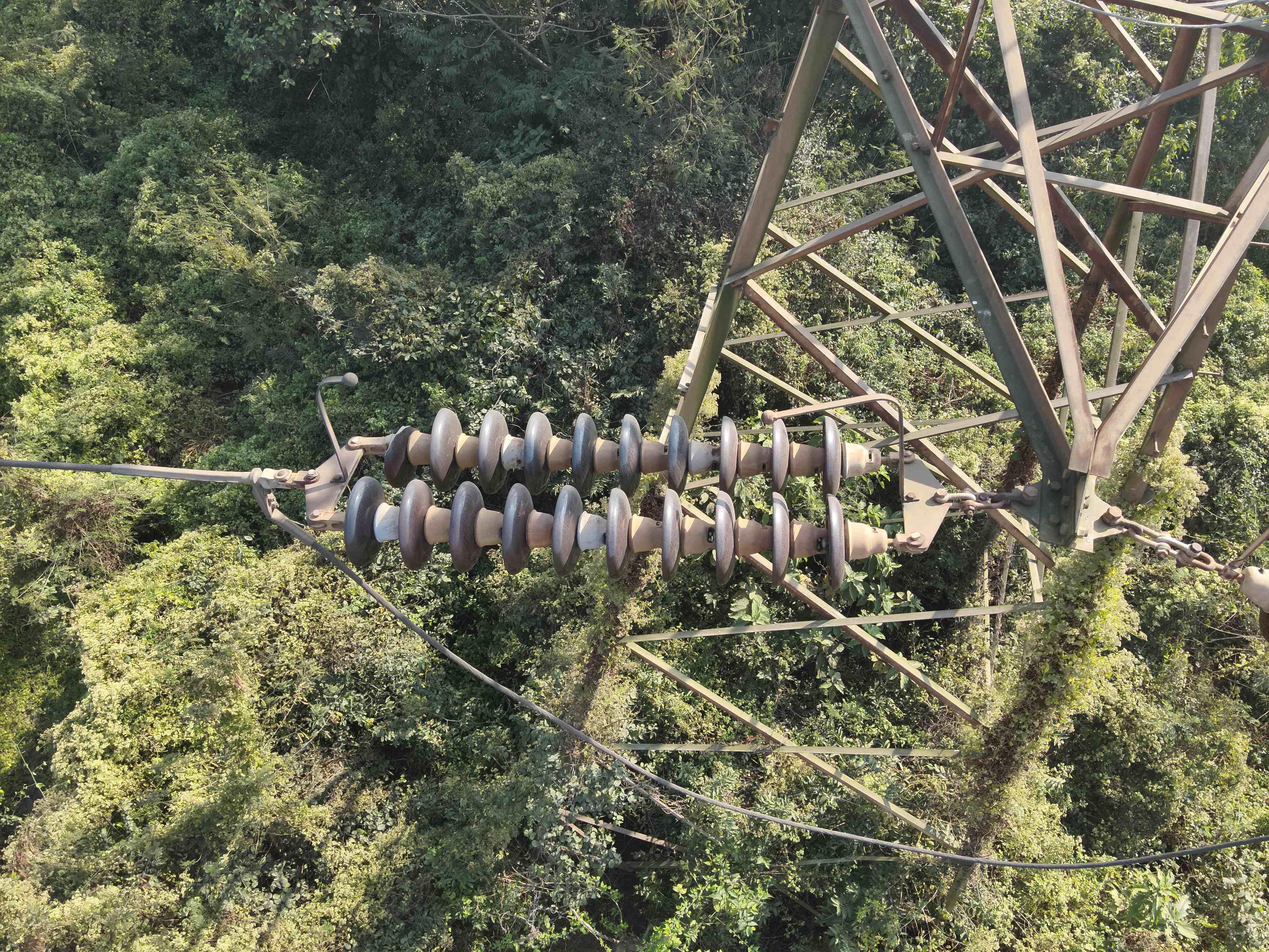broken_insulator: (382, 410, 421, 489)
